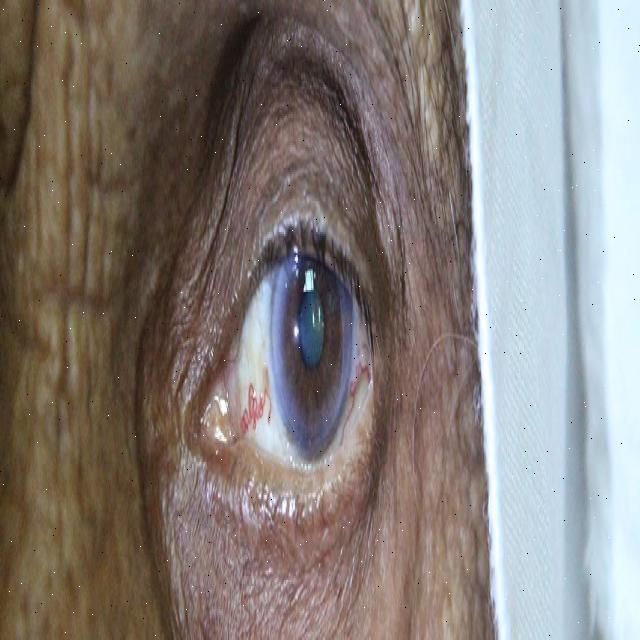Cataract: (270, 197, 354, 455)
